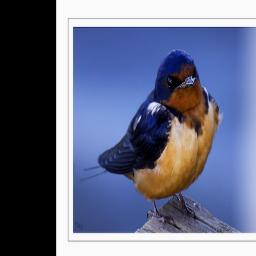Swallow: (79, 47, 224, 230)
